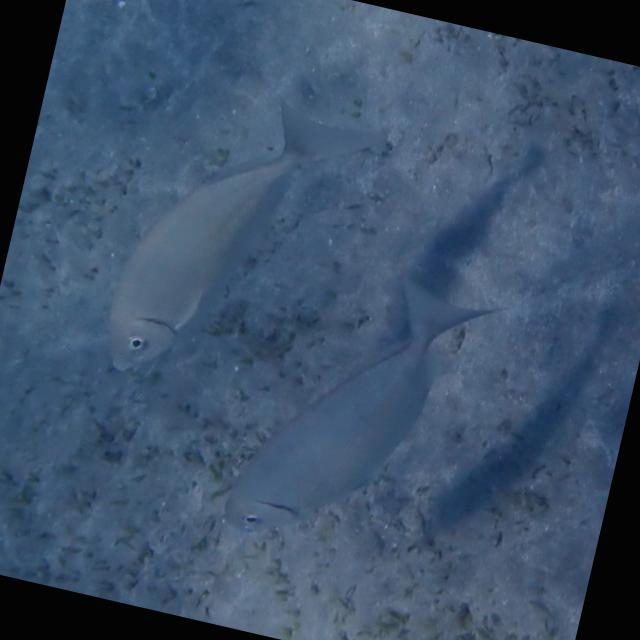Sokar Baligi: (85, 73, 401, 429), (196, 240, 503, 588)
